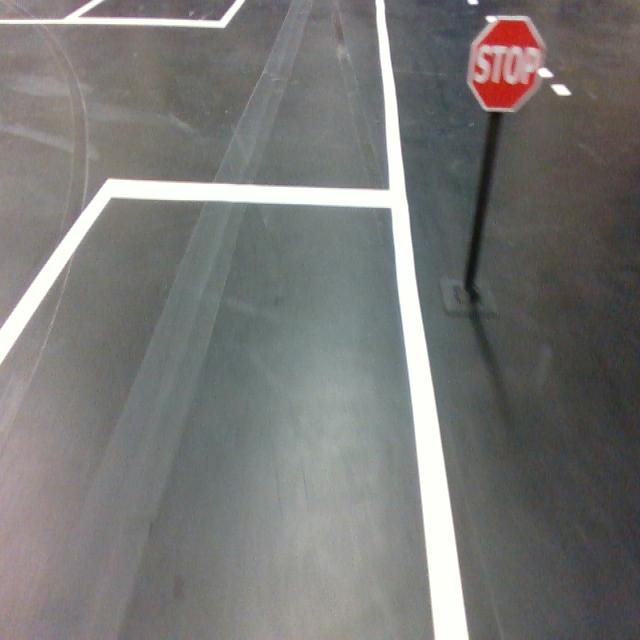stop-sign: (466, 15, 548, 114)
